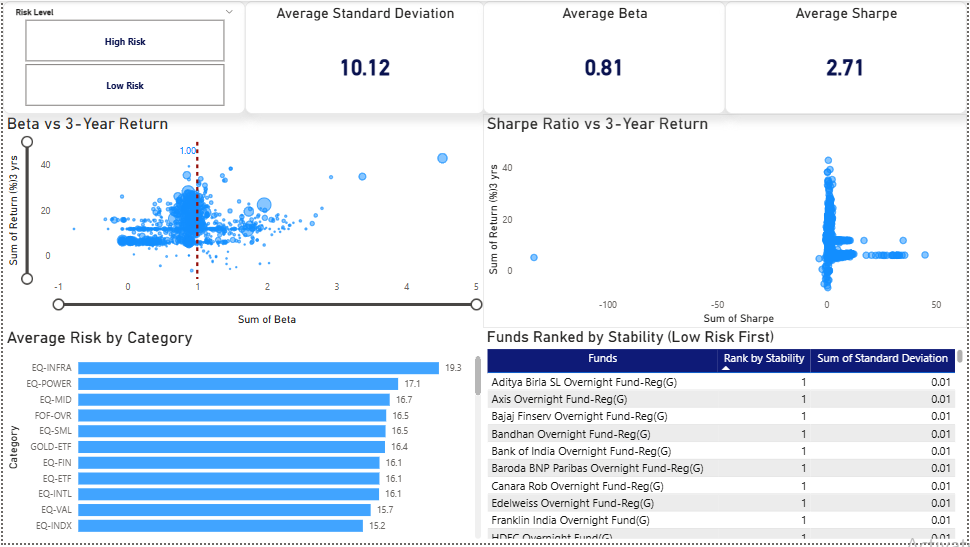

This screenshot's page, from the dashboard's own definition file:
{"tool":"powerbi","page":{"name":"Risk & Volatility_Dashboard","canvas":[1280,720],"ordinal":2},"visuals":[{"type":"scatterChart","title":"Beta vs 3-Year Return","fields":{"X":["Sum(cleaned_mutualfund_dataset.Beta)"],"Y":["Sum(cleaned_mutualfund_dataset.Return (%)3 yrs)"],"Category":["cleaned_mutualfund_dataset.Funds"],"Size":["Sum(cleaned_mutualfund_dataset.AUM(in Rs. cr))"]},"box":[0,150,637.2,284.9],"z":0},{"type":"scatterChart","title":"Sharpe Ratio vs 3-Year Return","fields":{"X":["Sum(cleaned_mutualfund_dataset.Sharpe)"],"Y":["Sum(cleaned_mutualfund_dataset.Return (%)3 yrs)"],"Category":["cleaned_mutualfund_dataset.Funds"]},"box":[637.2,150,642.8,284.9],"z":1000},{"type":"tableEx","title":"Funds Ranked by Stability (Low Risk First)","fields":{"Values":["cleaned_mutualfund_dataset.Funds","cleaned_mutualfund_dataset.Rank by Stability","Sum(cleaned_mutualfund_dataset.Standard Deviation)"]},"box":[637.2,434.9,642.8,284.9],"z":2000},{"type":"clusteredBarChart","title":"Average Risk by Category","fields":{"Category":["cleaned_mutualfund_dataset.Category"],"Y":["cleaned_mutualfund_dataset.Avg Standard Deviation"]},"box":[0,434.9,640,284.9],"z":3000},{"type":"slicer","title":"Risk Level","fields":{"Values":["cleaned_mutualfund_dataset.Risk Level"]},"box":[0,0,322.1,150],"z":4000},{"type":"card","title":"Average Standard Deviation","fields":{"Values":["cleaned_mutualfund_dataset.Avg Standard Deviation"]},"box":[321.1,0,317.9,150],"z":5000},{"type":"card","title":"Average Beta","fields":{"Values":["cleaned_mutualfund_dataset.Avg Beta"]},"box":[638.2,0,322.1,150],"z":6000},{"type":"card","title":"Average Sharpe","fields":{"Values":["cleaned_mutualfund_dataset.Avg Sharpe"]},"box":[959.3,0,320.7,150],"z":7000}]}

Visuals, with their boxes in screenshot pixels (x1, y1, x2, y2), scaled from the page's 1280x720 canvas onto the 970x547 screenshot:
"Beta vs 3-Year Return" scatterChart: pyautogui.locateOnScreen(0, 114, 483, 330)
"Sharpe Ratio vs 3-Year Return" scatterChart: pyautogui.locateOnScreen(483, 114, 969, 330)
"Funds Ranked by Stability (Low Risk First)" tableEx: pyautogui.locateOnScreen(483, 330, 969, 546)
"Average Risk by Category" clusteredBarChart: pyautogui.locateOnScreen(0, 330, 485, 546)
"Risk Level" slicer: pyautogui.locateOnScreen(0, 0, 244, 114)
"Average Standard Deviation" card: pyautogui.locateOnScreen(243, 0, 484, 114)
"Average Beta" card: pyautogui.locateOnScreen(484, 0, 728, 114)
"Average Sharpe" card: pyautogui.locateOnScreen(727, 0, 969, 114)
